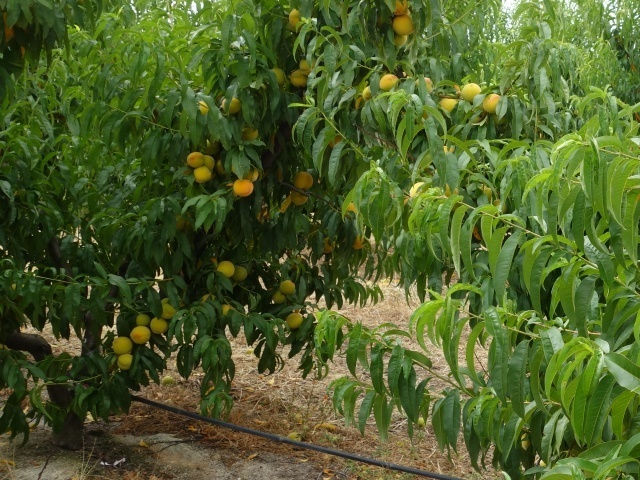peach: (389, 12, 418, 39), (226, 175, 255, 202), (105, 333, 135, 359), (126, 322, 153, 349), (189, 161, 215, 187), (153, 295, 179, 321), (216, 94, 243, 119), (459, 82, 485, 107), (377, 72, 403, 97), (290, 170, 316, 194), (281, 309, 306, 333), (285, 70, 311, 93), (113, 350, 135, 377), (287, 185, 311, 209), (283, 7, 308, 30), (295, 53, 318, 78), (438, 92, 461, 117), (183, 150, 209, 172), (212, 259, 238, 281), (480, 91, 504, 114), (237, 123, 260, 147), (229, 262, 251, 287), (196, 147, 221, 168), (147, 313, 168, 337), (387, 1, 412, 21), (130, 308, 153, 329), (269, 287, 291, 308), (277, 280, 299, 298), (359, 83, 376, 103)
